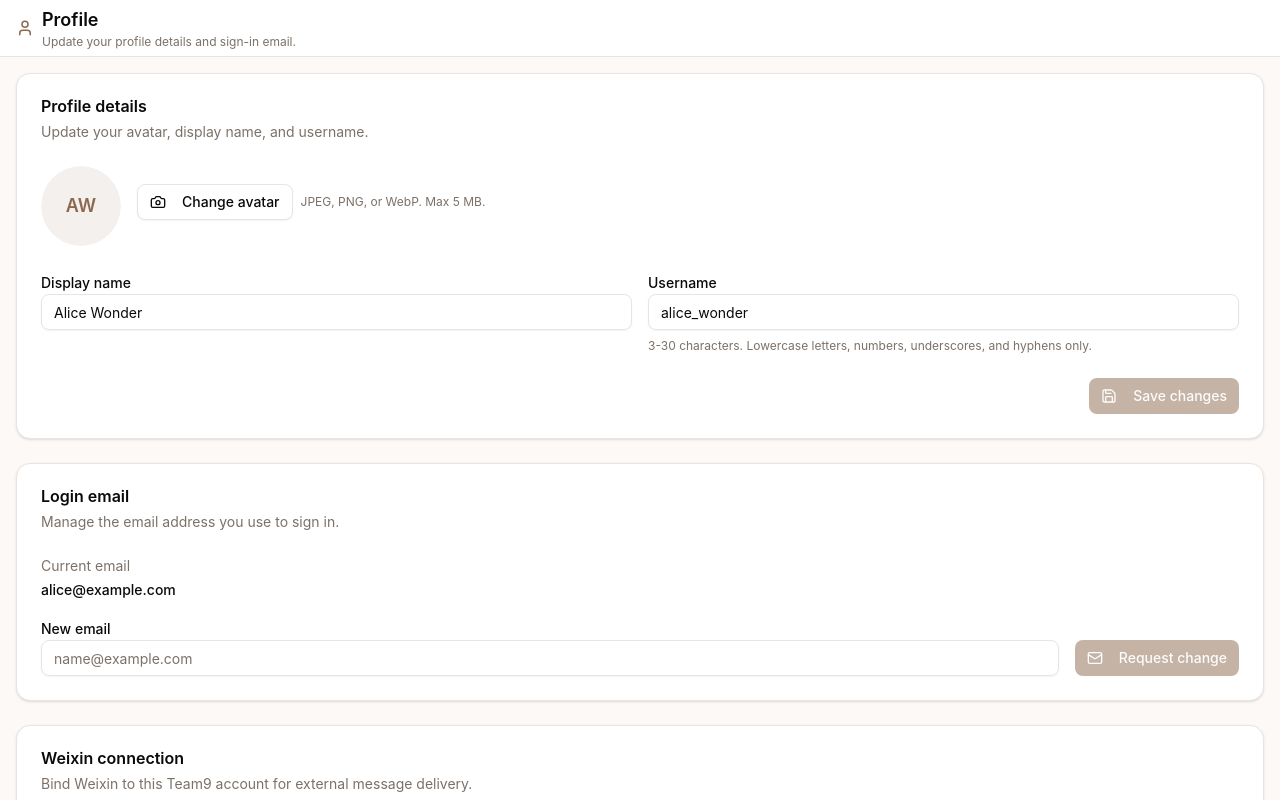
Scenario: AccountSettingsContent › blocks an invalid username and shows a validation message
The width and height of the screenshot is (1280, 800).
Replace the text in the field labelled "Username" with "Alice Smith!" at (944, 312), box [648, 294, 1239, 330]
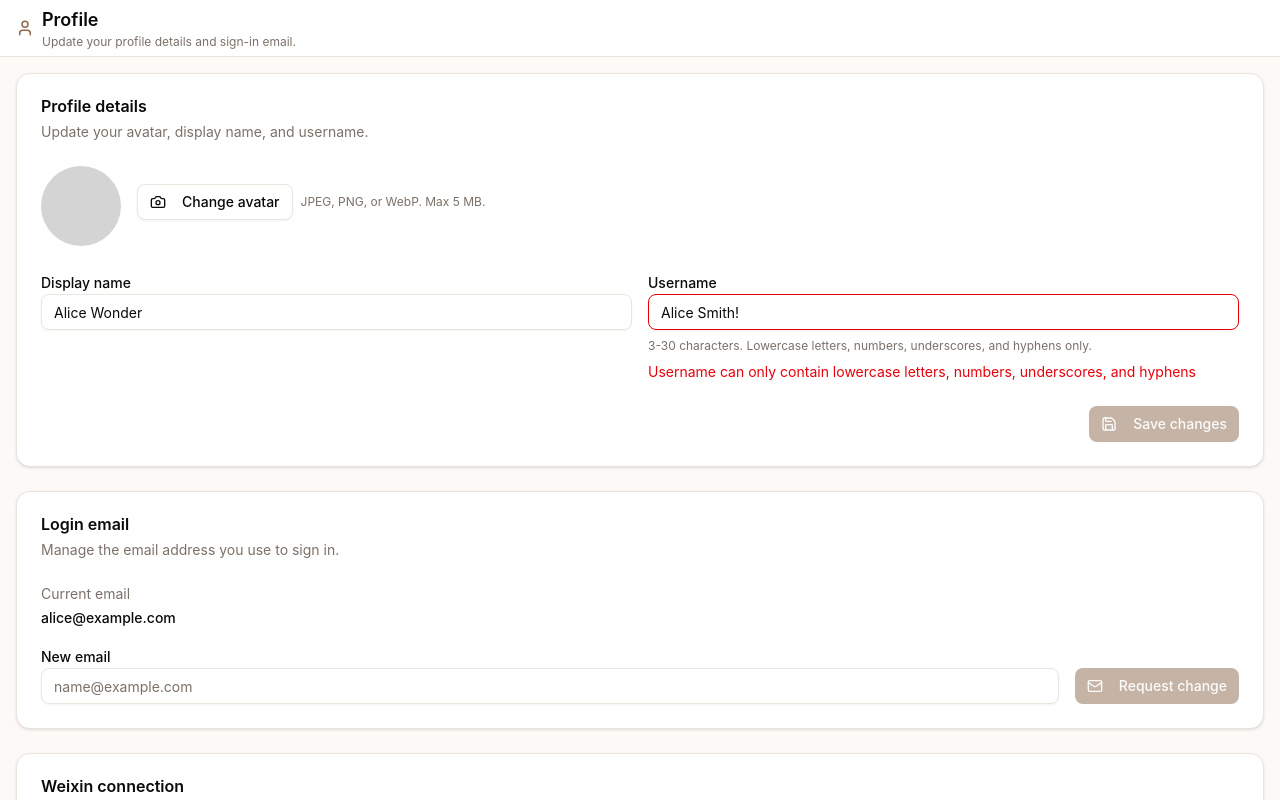
Expected: the button "Save changes" is disabled, [1089, 406, 1239, 442]
Now the text "Username can only contain lowercase letters, numbers, underscores, and hyphens" is shown, box [648, 362, 1239, 382]
